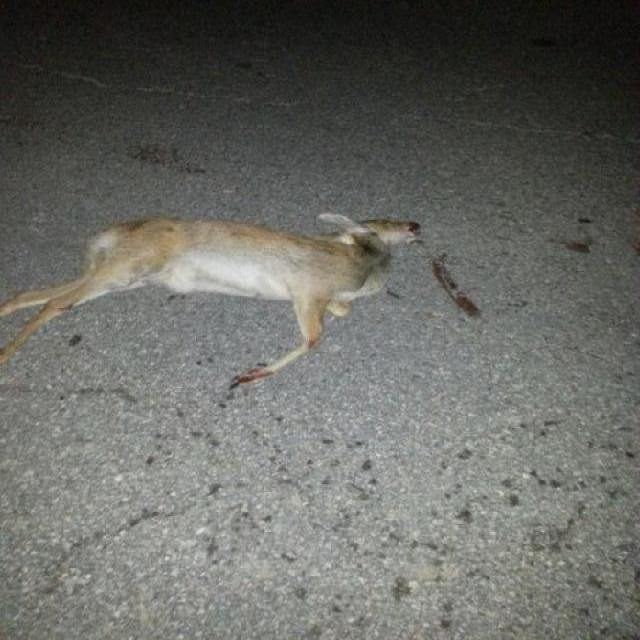deer: (0, 181, 443, 408)
